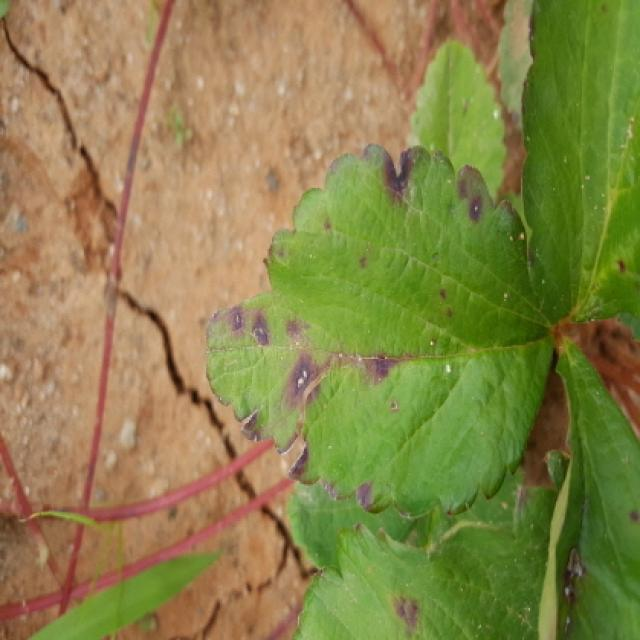Leaf Spot: (203, 144, 555, 518), (290, 450, 570, 638), (519, 0, 638, 322), (541, 335, 638, 638)
